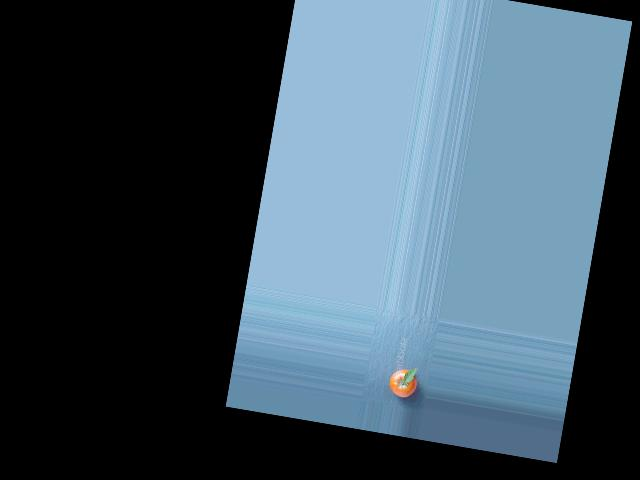tomato: (387, 367, 418, 399)
